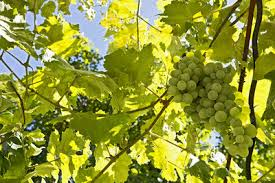grapes: (168, 50, 256, 159)
